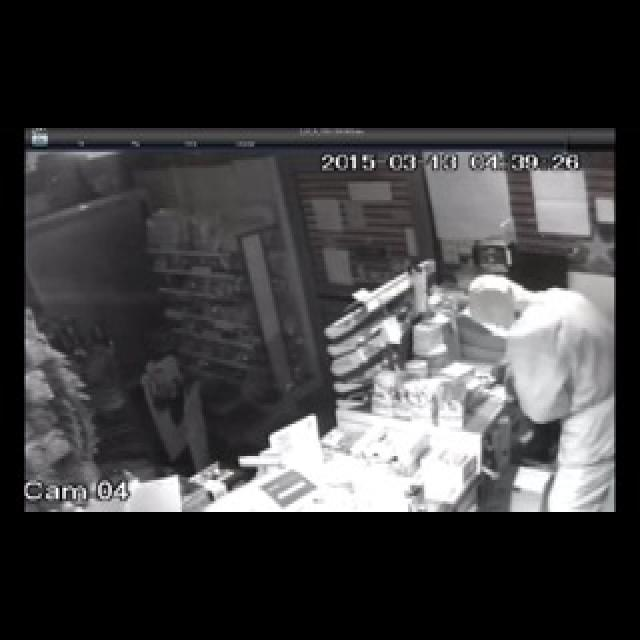thief: (462, 268, 616, 513)
